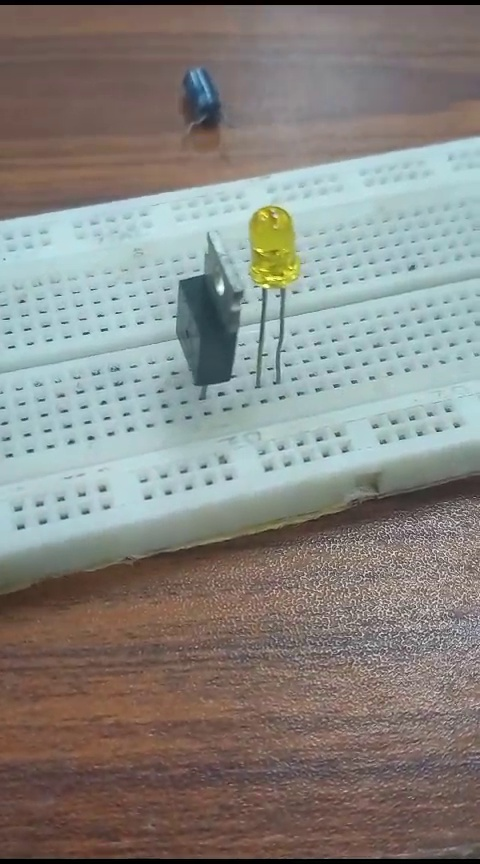LED: (240, 203, 311, 373)
voltage regulator: (154, 232, 247, 385)
